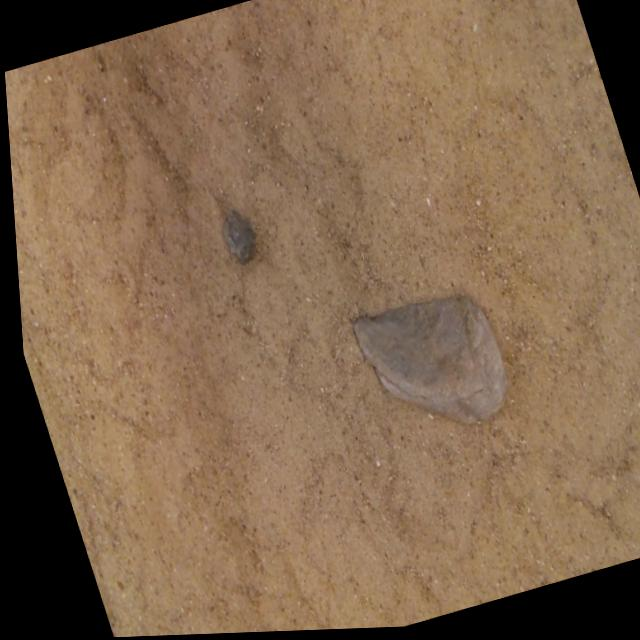rock: (347, 300, 499, 426), (218, 212, 250, 264)
